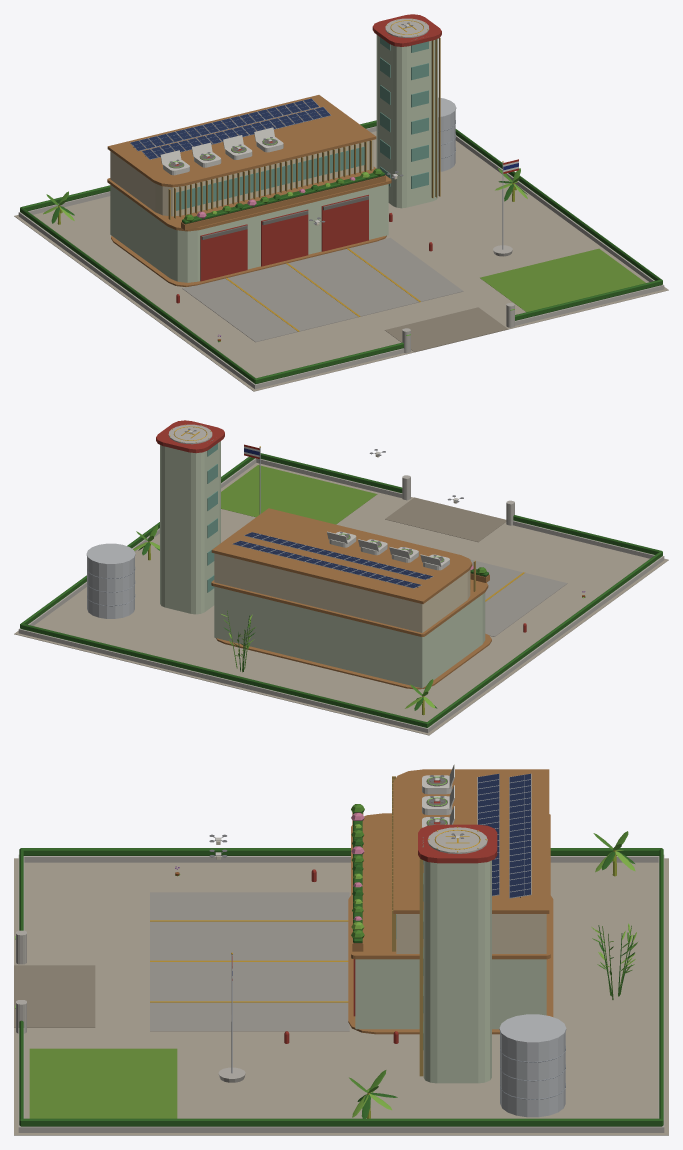
Rendered from fire.glb.
3 views of the same model, one above another, from view 1: azimuth 30°, elevation 25°; view 2: azimuth 150°, elevation 25°; view 3: azimuth 270°, elevation 25° (orthographic). The views are drawn at different scales.
Parts seen in each view (by area): view 1: body; view 2: body; view 3: body.
Boxes of the visible parts, <box> form: body: <box>14,14,668,391</box>; body: <box>14,420,668,735</box>; body: <box>14,764,668,1135</box>.
Bounding box in the file's own units: 47.9 × 19.03 × 47.9.
